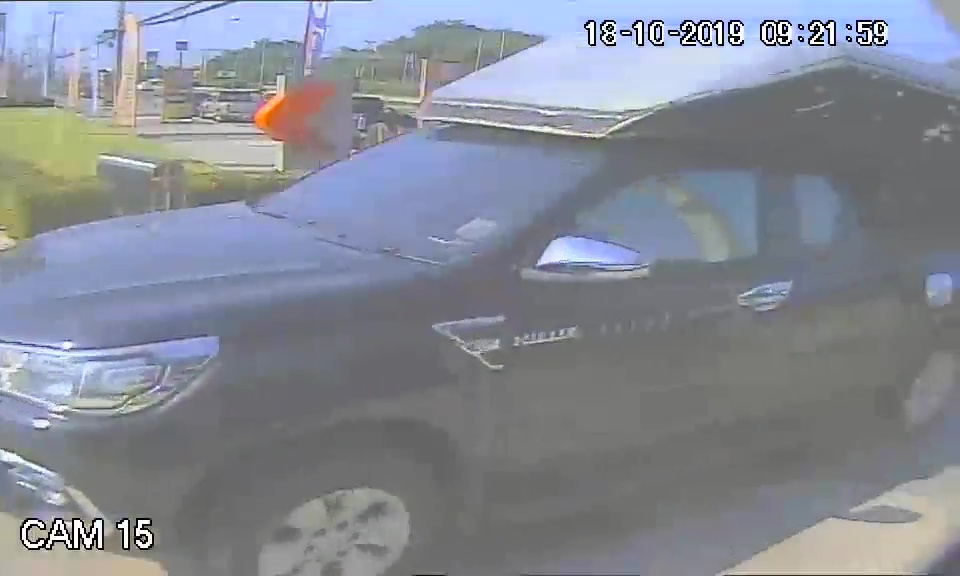pickup: (1, 118, 953, 513)
